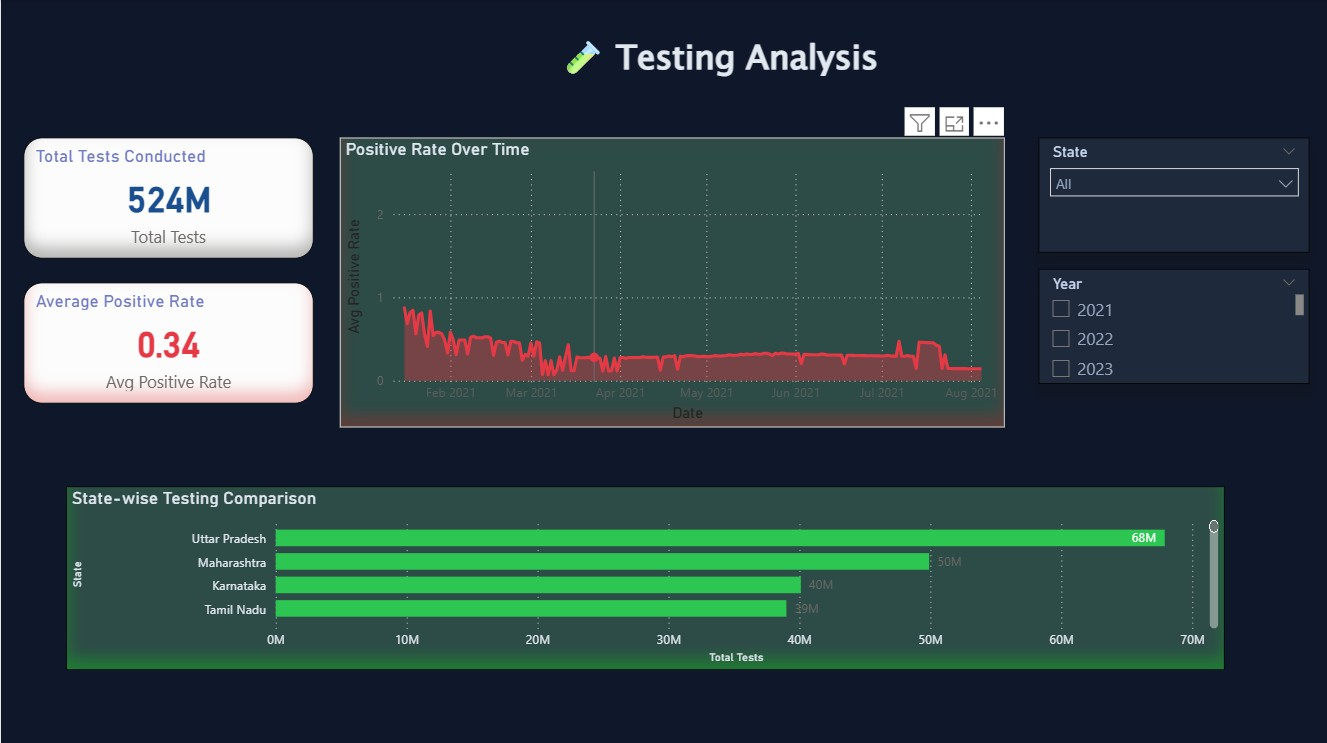

Layout of this report page (visuals, bound fields, positions):
{"tool":"powerbi","page":{"name":"Testing Analysis","canvas":[1280,720],"ordinal":3},"visuals":[{"type":"card","title":"Total Tests Conducted","fields":{"Values":["RawData.Total Tests"]},"box":[21.7,132.7,279.9,117],"z":0},{"type":"card","title":"Average Positive Rate","fields":{"Values":["RawData.Avg Positive Rate"]},"box":[21.4,272.9,280,117.1],"z":1000},{"type":"clusteredBarChart","title":"State-wise Testing Comparison","fields":{"Category":["RawData.State"],"Y":["RawData.Total Tests"]},"box":[62.7,469.3,1118.4,177.3],"z":2000},{"type":"lineChart","title":"Positive Rate Over Time","fields":{"Category":["DateTable.Date"],"Y":["RawData.Avg Positive Rate"]},"box":[326.9,132.7,641.8,279.9],"z":3000},{"type":"slicer","fields":{"Values":["RawData.State"]},"box":[1001.3,132.7,261.8,111],"z":4000},{"type":"slicer","fields":{"Values":["DateTable.Year"]},"box":[1001.3,259.4,261.8,111],"z":5000},{"type":"textbox","box":[534.5,26.5,328.2,65.1],"z":7000}]}

Visuals, with their boxes in screenshot pixels (x1, y1, x2, y2), scaled from the page's 1280x720 canvas onto the 1327x743 screenshot:
"Total Tests Conducted" card: bbox=(22, 137, 313, 258)
"Average Positive Rate" card: bbox=(22, 282, 312, 402)
"State-wise Testing Comparison" clusteredBarChart: bbox=(65, 484, 1224, 667)
"Positive Rate Over Time" lineChart: bbox=(339, 137, 1004, 426)
slicer - RawData.State: bbox=(1038, 137, 1309, 251)
slicer - DateTable.Year: bbox=(1038, 268, 1309, 382)
textbox: bbox=(554, 27, 894, 95)
